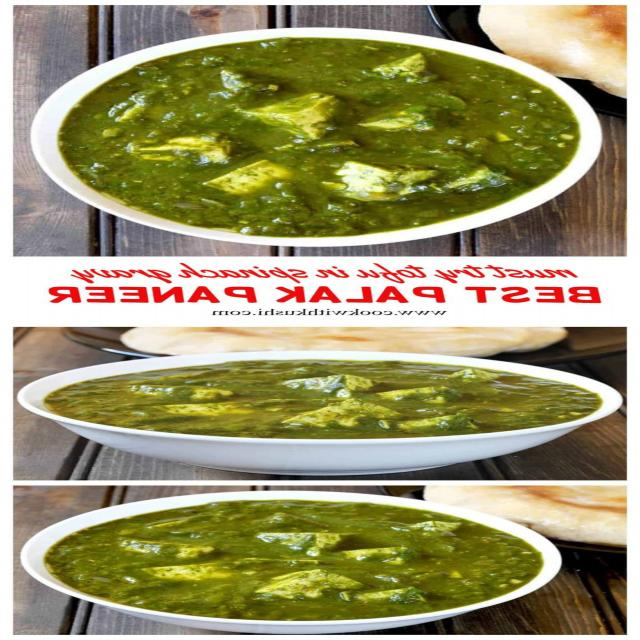Palak Paneer: (60, 35, 584, 236), (39, 496, 546, 624), (34, 358, 600, 440)
